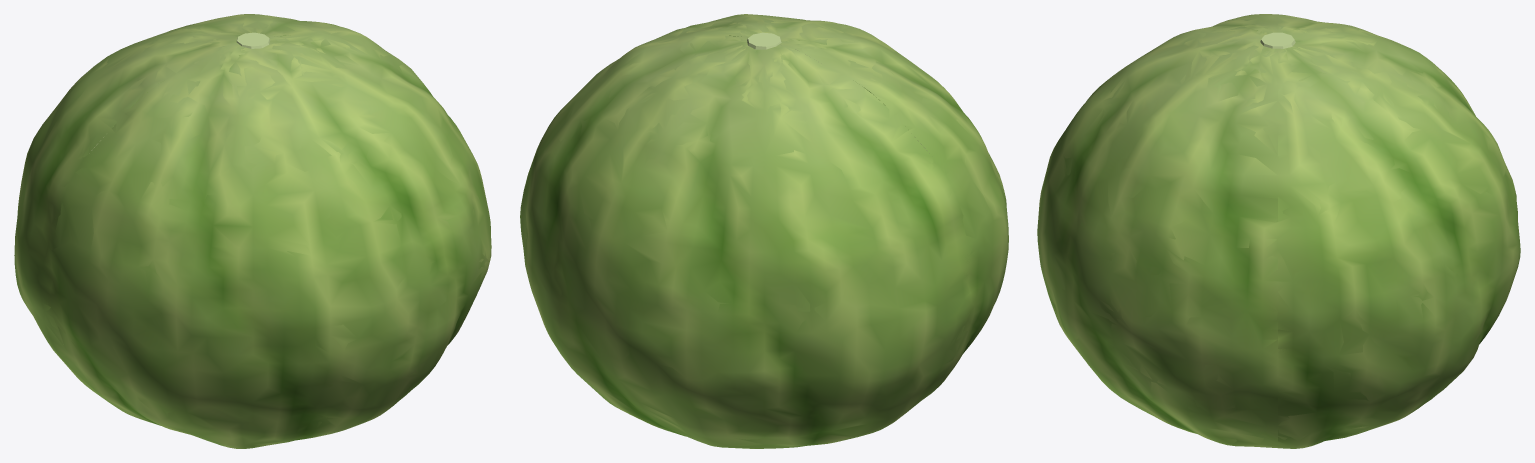
Rendered from chou-blanc.glb.
3 views of the same model, side by side, from view 1: azimuth 30°, elevation 25°; view 2: azimuth 150°, elevation 25°; view 3: azimuth 270°, elevation 25° (orthographic).
Parts seen in each view (by area): view 1: entier_peau, moitie_B_peau, moitie_A_peau; view 2: entier_peau, moitie_A_peau, moitie_B_peau, entier_extra0; view 3: entier_peau, moitie_B_peau, moitie_A_peau, entier_extra0.
Boxes of the visible parts, bbox=[...] form: entier_peau: bbox=[14, 14, 491, 448]; moitie_B_peau: bbox=[51, 33, 491, 448]; moitie_A_peau: bbox=[15, 14, 390, 403]; entier_peau: bbox=[520, 14, 1008, 448]; moitie_A_peau: bbox=[522, 33, 969, 448]; moitie_B_peau: bbox=[656, 15, 1008, 385]; entier_extra0: bbox=[747, 32, 781, 49]; entier_peau: bbox=[1037, 14, 1520, 448]; moitie_B_peau: bbox=[1038, 14, 1277, 447]; moitie_A_peau: bbox=[1278, 14, 1520, 448]; entier_extra0: bbox=[1260, 32, 1295, 48].
Bounding box in the file's own units: 2.05 × 1.81 × 2.08.
